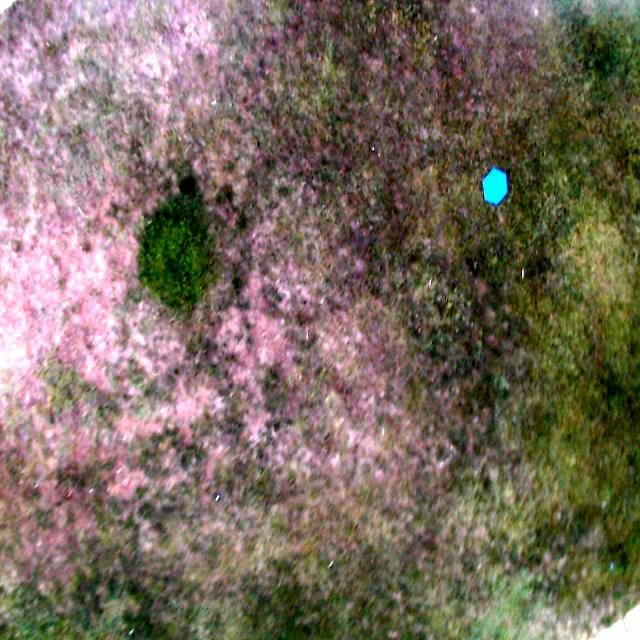blue_hexagon: (483, 166, 510, 208)
